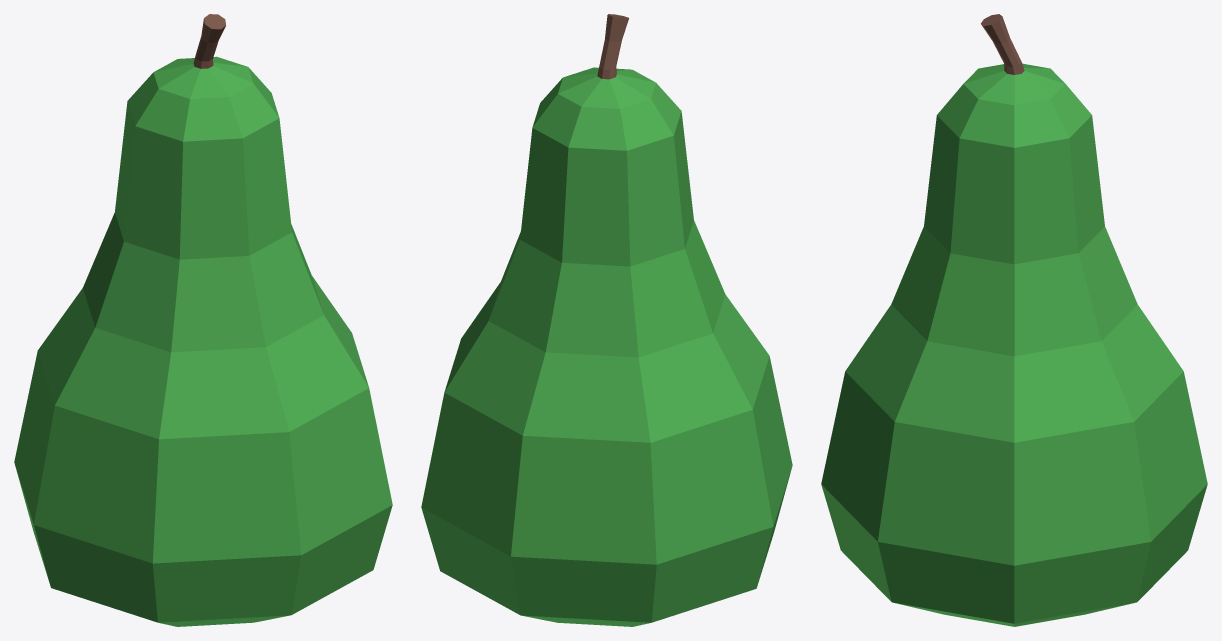
The model's file is Pear_01.obj.
3 views of the same model, side by side, from view 1: azimuth 30°, elevation 25°; view 2: azimuth 150°, elevation 25°; view 3: azimuth 270°, elevation 25° (orthographic).
Visible parts, largest first — view 1: pear_Circle.002; view 2: pear_Circle.002; view 3: pear_Circle.002.
Boxes of the visible parts, left/top/right/bottom form: pear_Circle.002: left=14, top=14, right=392, bottom=626; pear_Circle.002: left=421, top=14, right=792, bottom=626; pear_Circle.002: left=821, top=14, right=1207, bottom=626.
Size of the model in its own units: 7.69 by 12.64 by 7.69.
